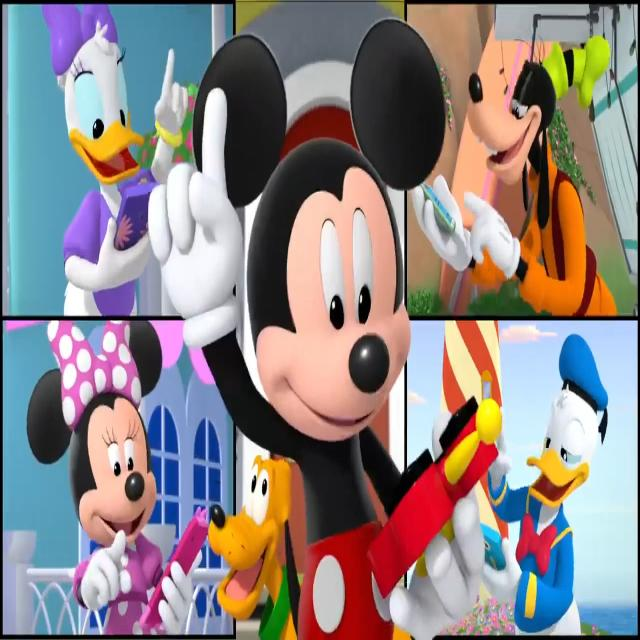mickey: (189, 20, 449, 462)
